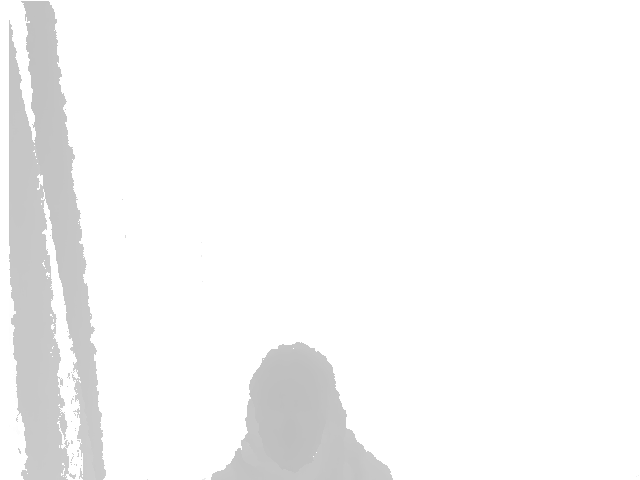head: (250, 342, 338, 472)
person: (210, 341, 395, 480)
